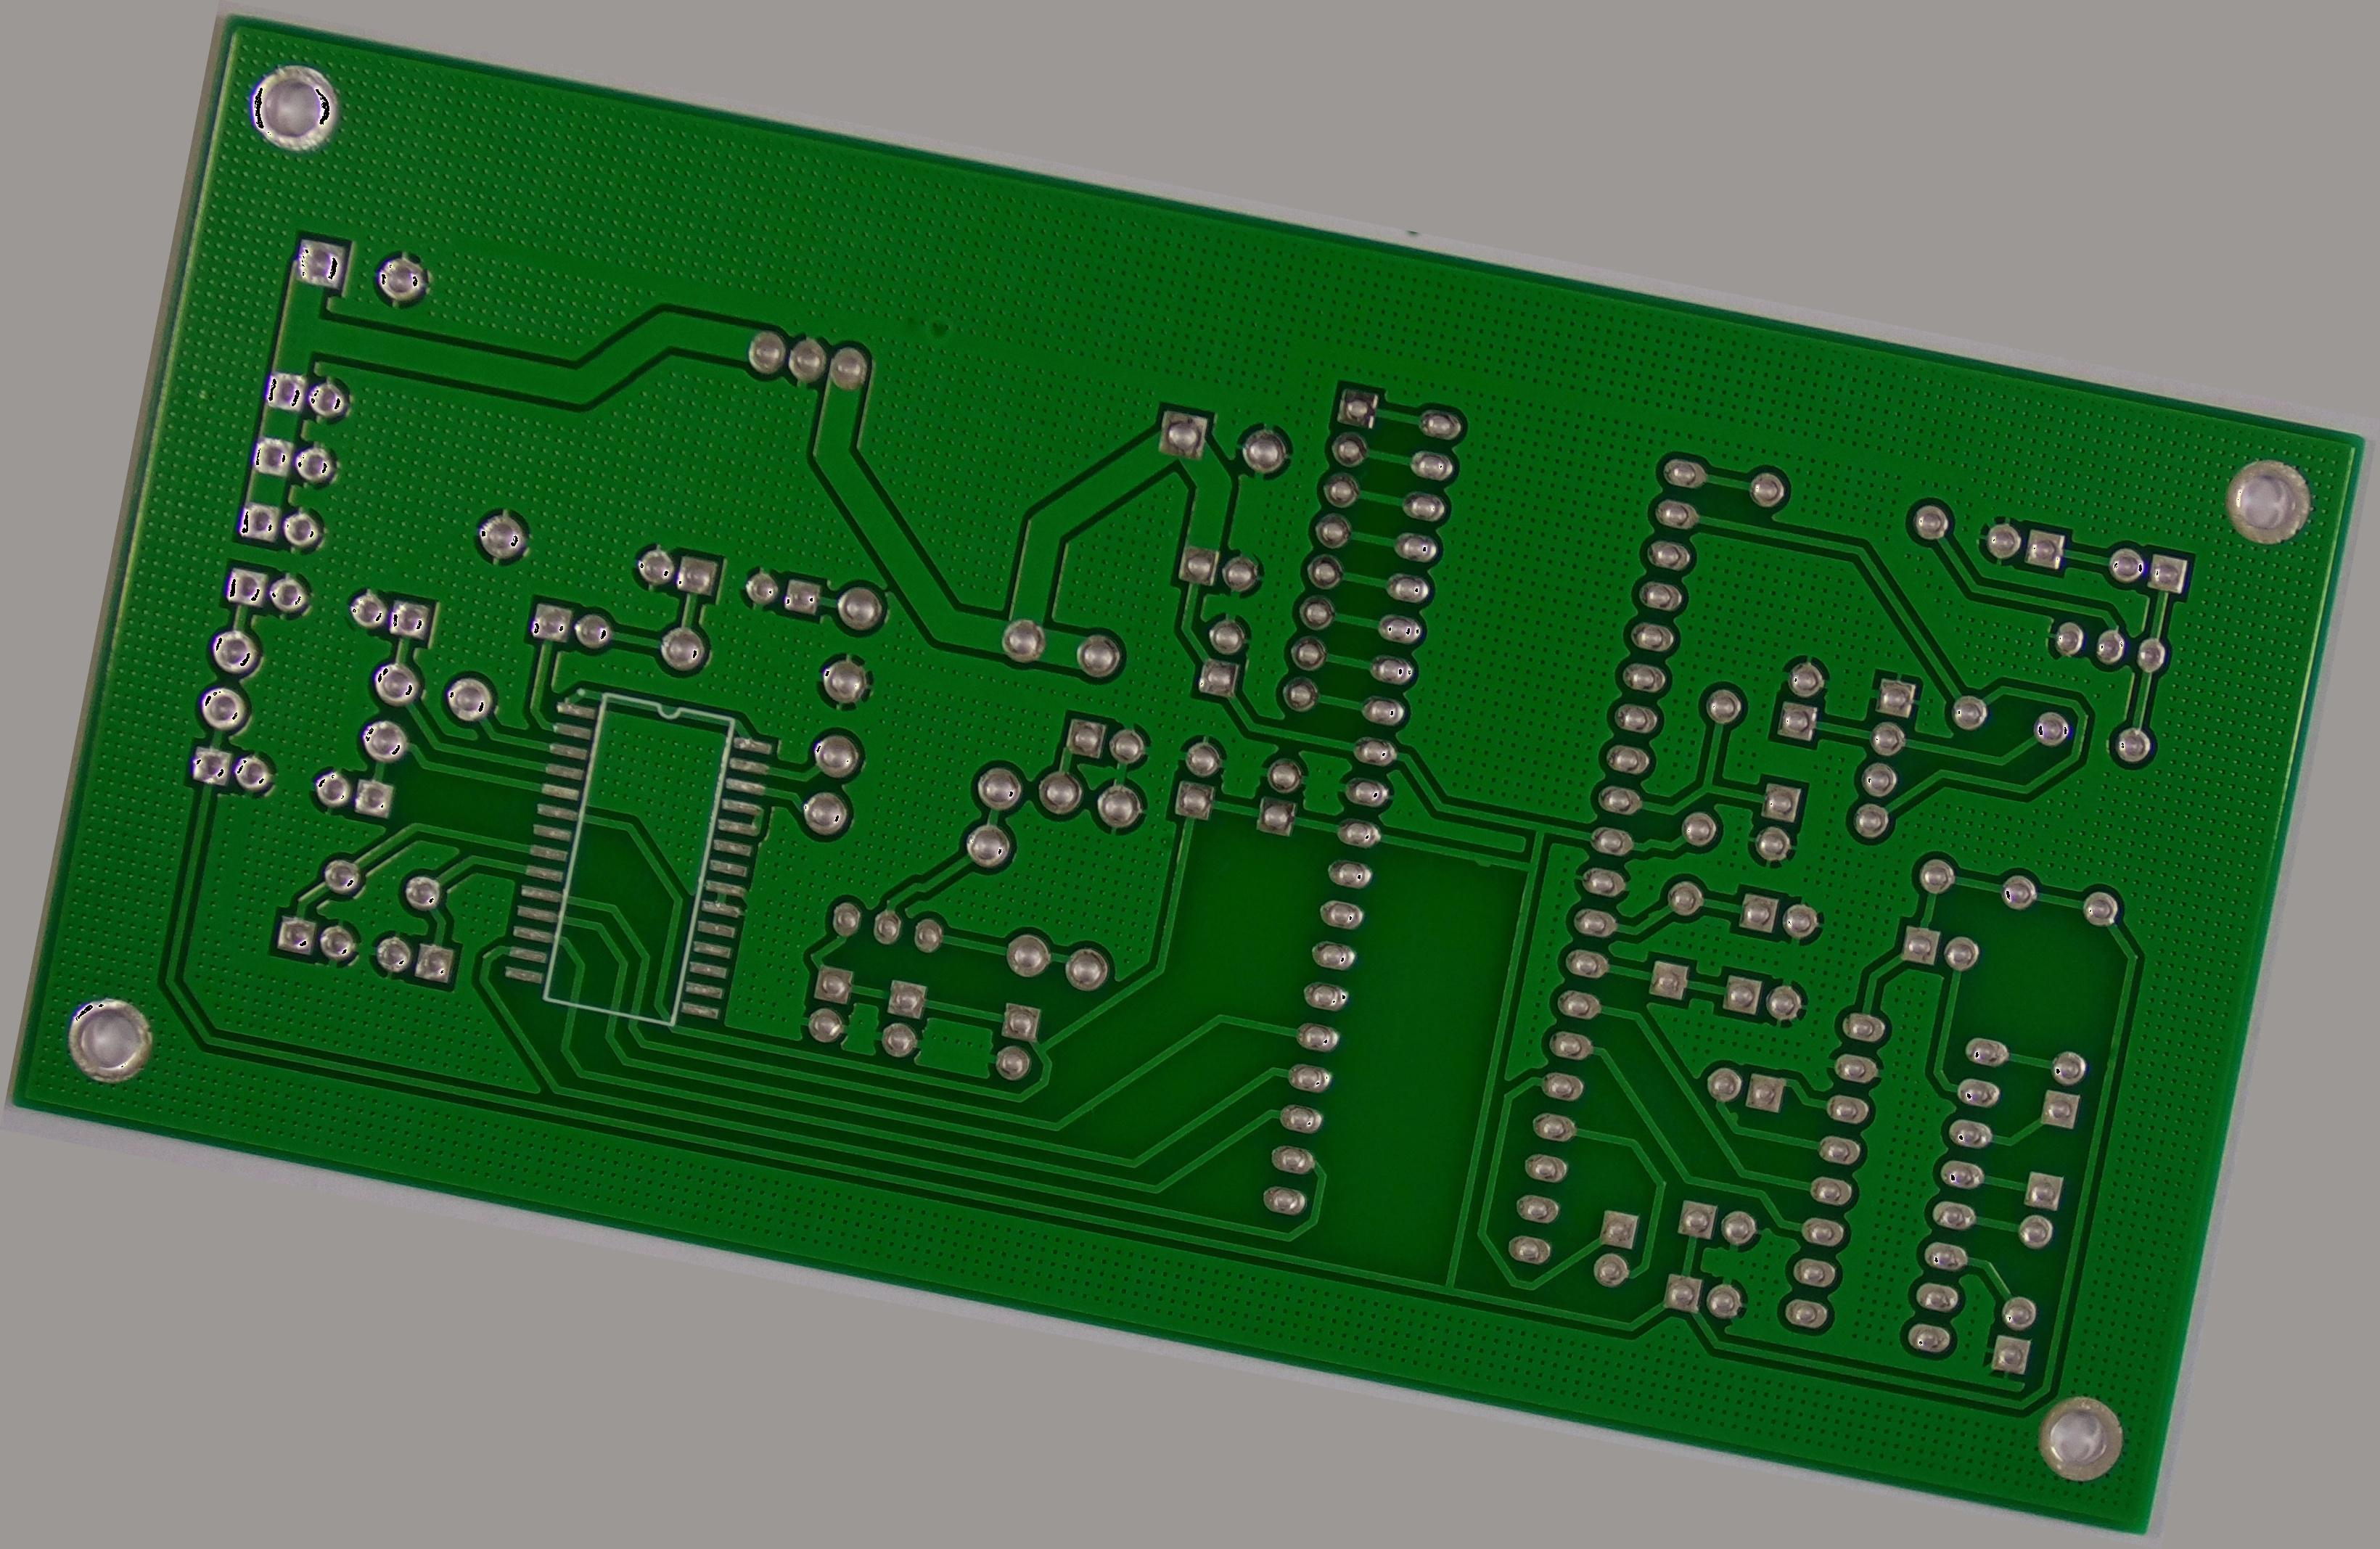spur: (1462, 843, 1506, 881), (1632, 899, 1674, 935), (1716, 1103, 1745, 1133)
